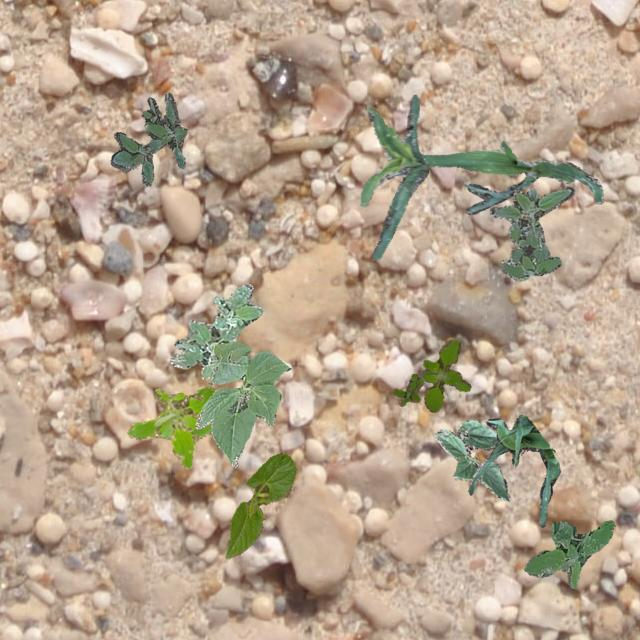crop: (386, 140, 602, 213), (194, 341, 290, 466), (358, 93, 428, 260), (468, 414, 558, 526), (224, 452, 296, 558), (434, 418, 508, 499)
weed: (168, 282, 262, 378), (489, 186, 573, 280), (110, 91, 187, 186), (126, 386, 214, 468), (524, 520, 614, 588), (420, 338, 470, 412), (392, 372, 422, 406)
